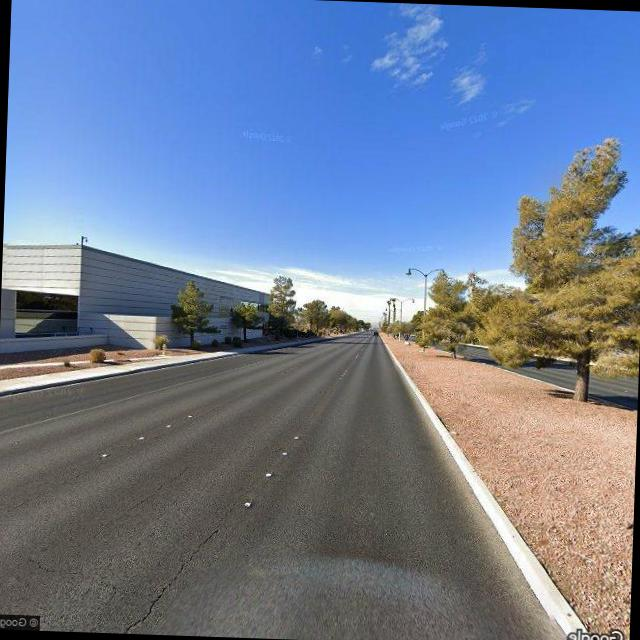pothole: (106, 506, 235, 636), (111, 461, 196, 517)
